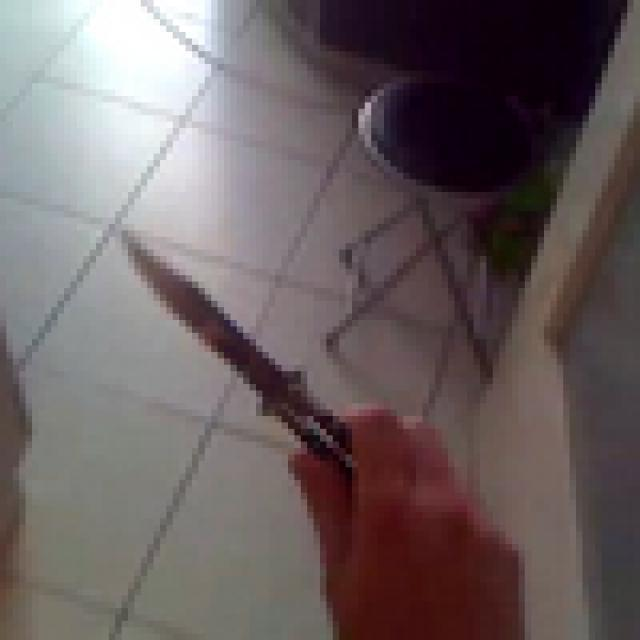knife: (90, 198, 423, 544)
